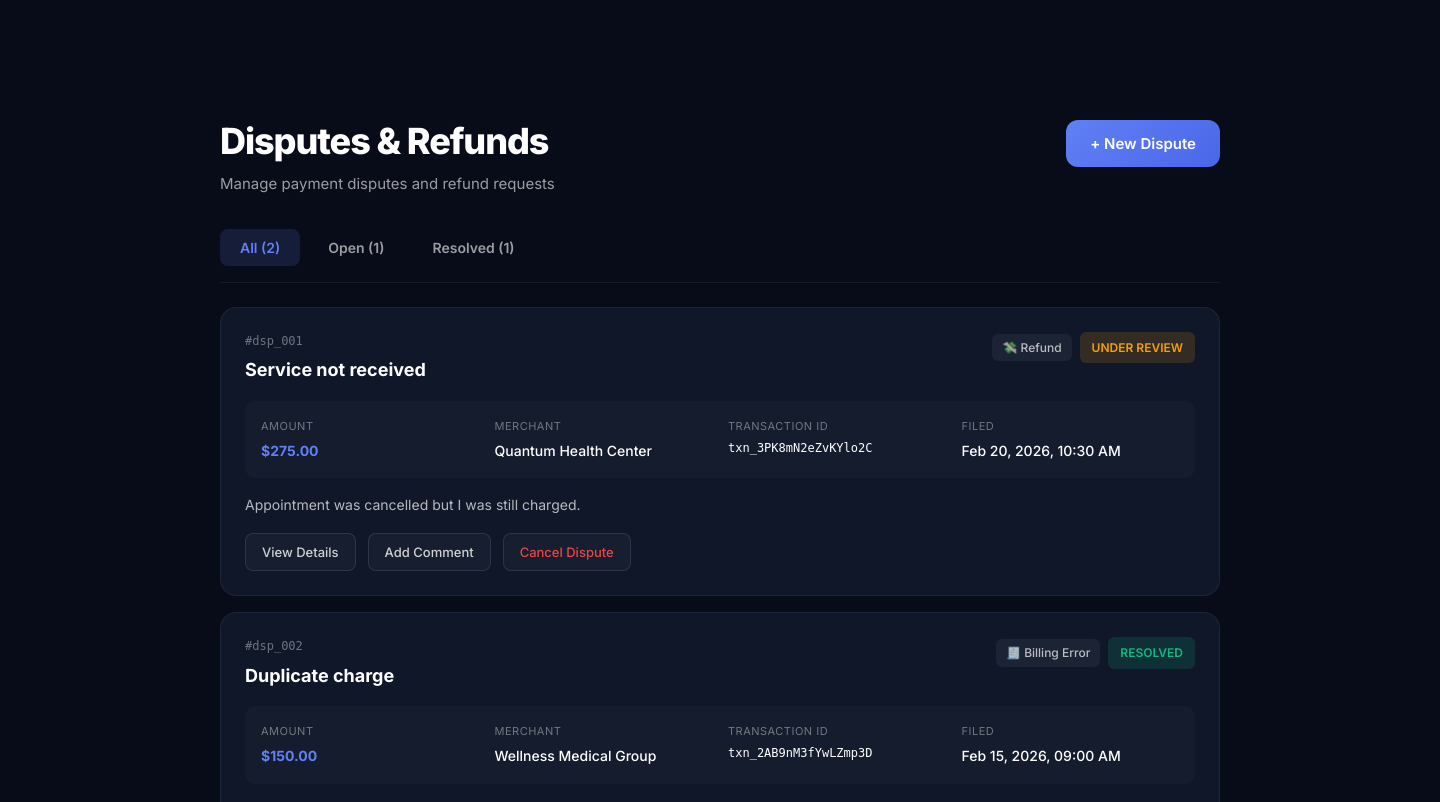
Test: Disputes › new dispute modal › closes modal when Cancel is clicked
Click the button "+ New Dispute" at (1143, 144), box top-left (1066, 120), bottom-right (1220, 167)
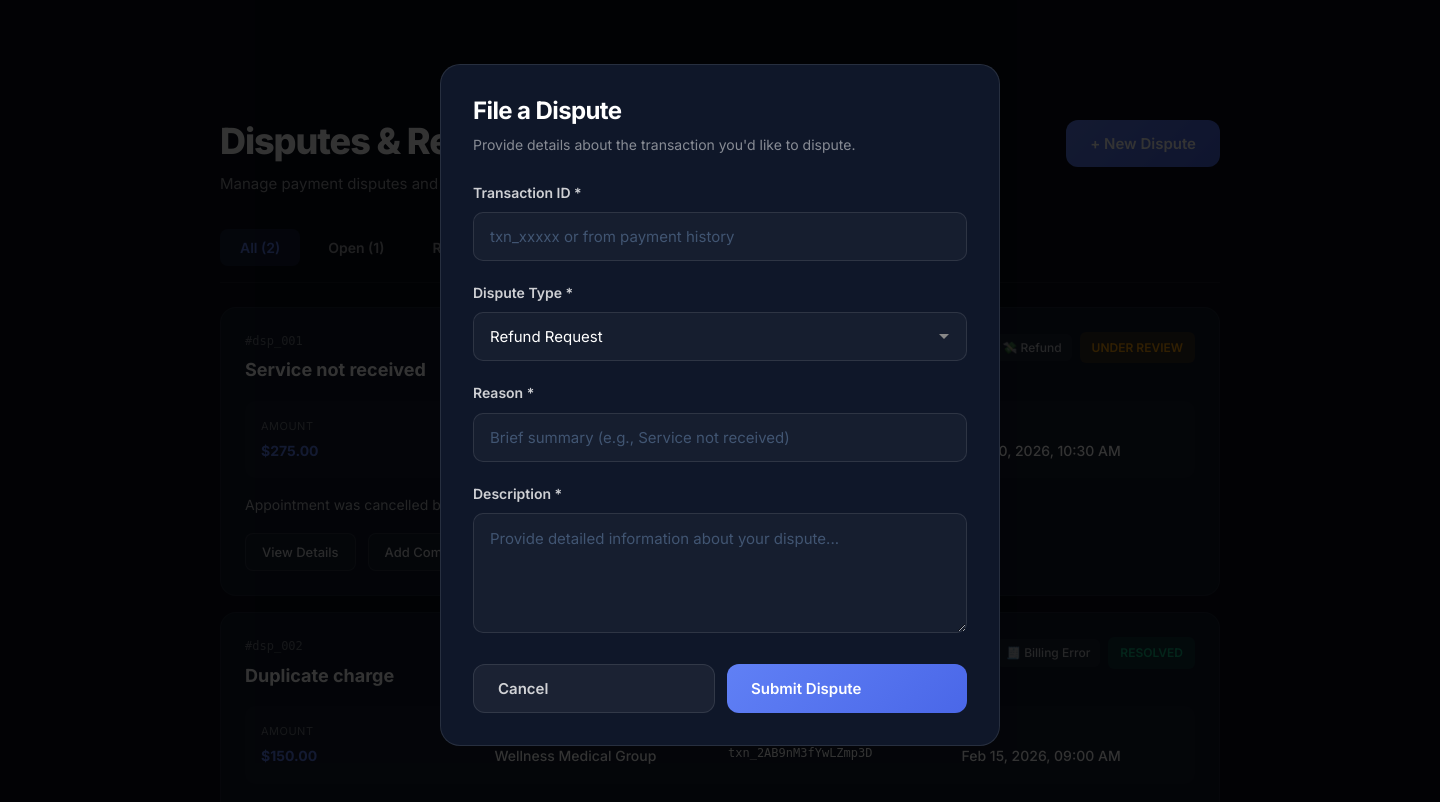
Expected: the heading "File a Dispute" is shown, top-left (473, 96), bottom-right (622, 125)
Last cancel is the modal cancel button
Click the button "Cancel" at (594, 689), box top-left (473, 664), bottom-right (715, 713)
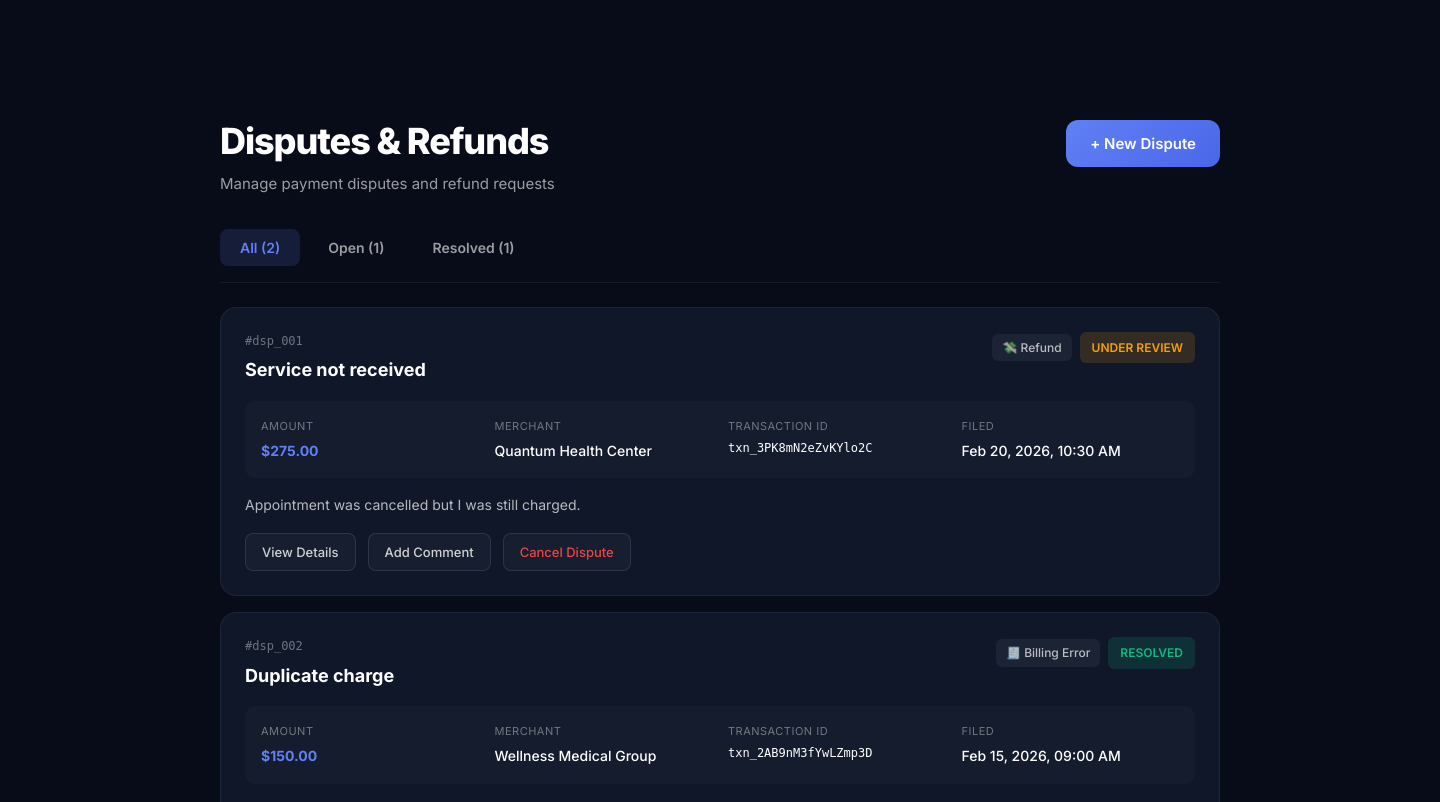
Expected: the heading "File a Dispute" is gone
